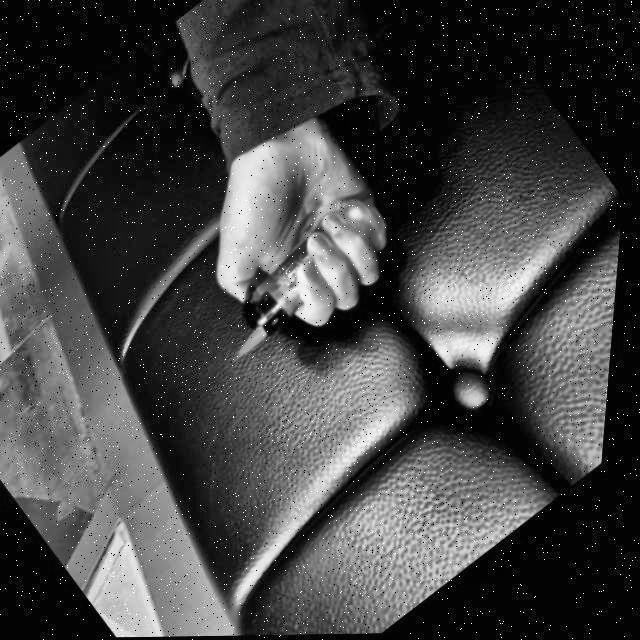Fire: (233, 325, 275, 362)
